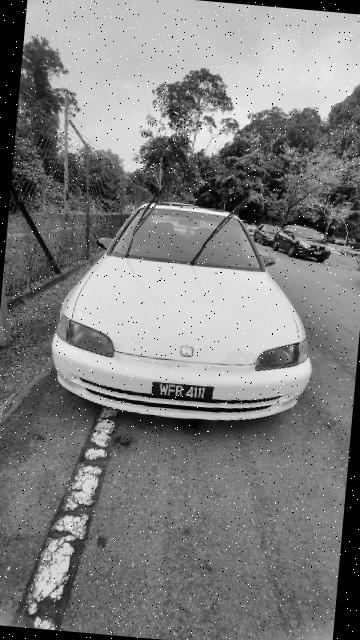License_Plate: (149, 378, 219, 408)
car: (47, 188, 327, 437)
